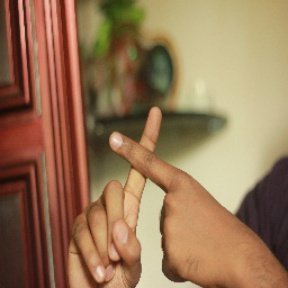X: (72, 95, 220, 230)
